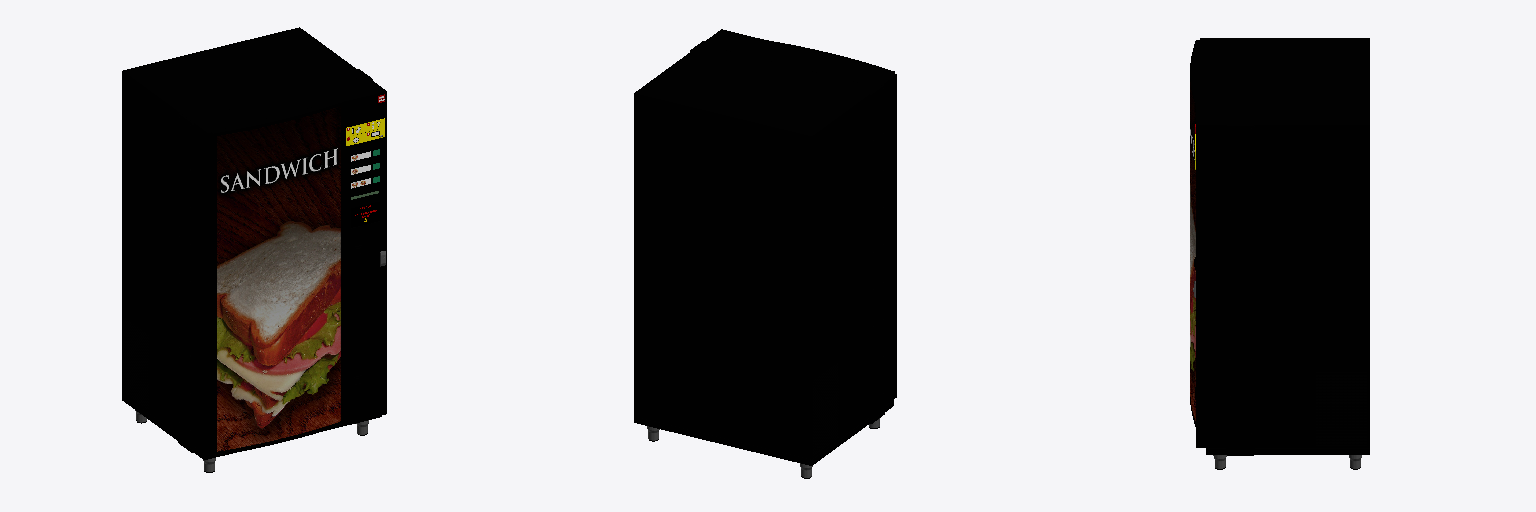
3 views of the same model, side by side, from view 1: azimuth 30°, elevation 25°; view 2: azimuth 150°, elevation 25°; view 3: azimuth 270°, elevation 25° (orthographic).
Visible parts, largest first — view 1: archmodels87_020_007, archmodels87_020_001, archmodels87_020_002, archmodels87_020_005; view 2: archmodels87_020_007; view 3: archmodels87_020_007, archmodels87_020_001.
Part boxes in pixels (bbox=[...]): archmodels87_020_007: bbox=[122, 27, 386, 472]; archmodels87_020_001: bbox=[217, 106, 340, 451]; archmodels87_020_002: bbox=[346, 118, 384, 145]; archmodels87_020_005: bbox=[351, 202, 379, 227]; archmodels87_020_007: bbox=[634, 29, 896, 478]; archmodels87_020_007: bbox=[1190, 38, 1369, 469]; archmodels87_020_001: bbox=[1190, 82, 1195, 420].
Size of the model in its own units: 1028 by 1875 by 877.
Materials: 9 (5 with a texture image).